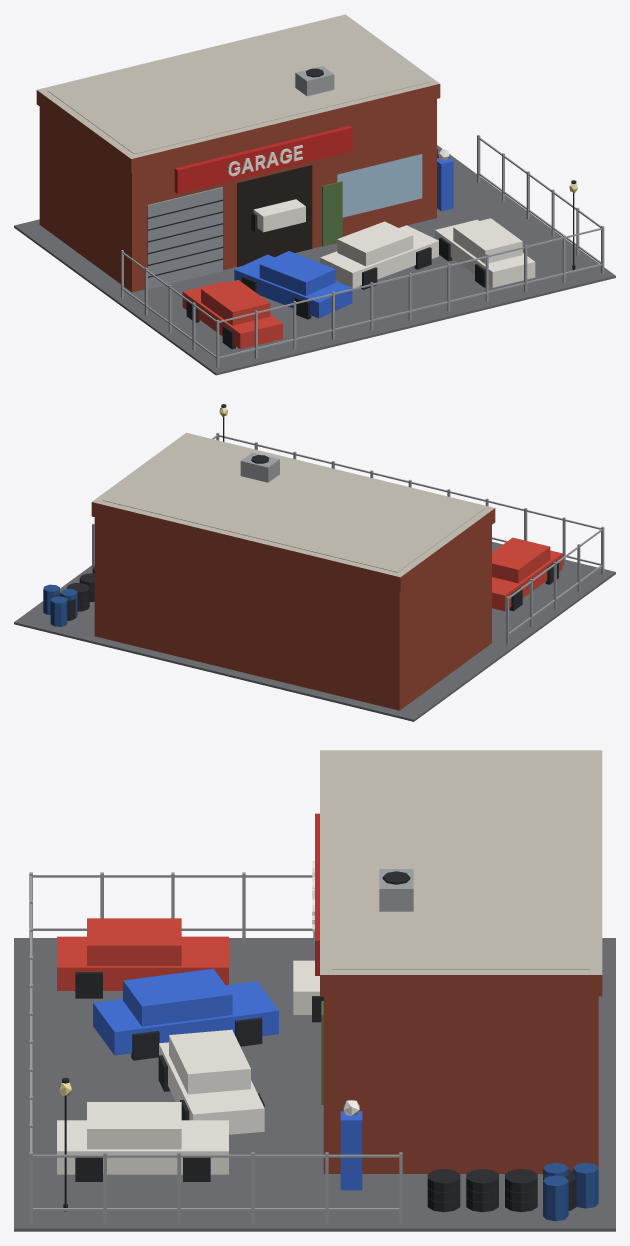
The model's file is Sanayi_garaj_tamirhane_Hafif.fbx.
3 renders of one model, top to bottom at view 1: azimuth 30°, elevation 25°; view 2: azimuth 150°, elevation 25°; view 3: azimuth 270°, elevation 25°, orthographic. The views are drawn at different scales.
Parts seen in each view (by area): view 1: Sanayi_garaj_tamirhane_Hafif; view 2: Sanayi_garaj_tamirhane_Hafif; view 3: Sanayi_garaj_tamirhane_Hafif.
Part boxes in pixels (bbox=[...]): Sanayi_garaj_tamirhane_Hafif: bbox=[14, 14, 615, 375]; Sanayi_garaj_tamirhane_Hafif: bbox=[14, 404, 615, 721]; Sanayi_garaj_tamirhane_Hafif: bbox=[14, 750, 615, 1231].
Bounding box in the file's own units: 16 × 5.88 × 14.
